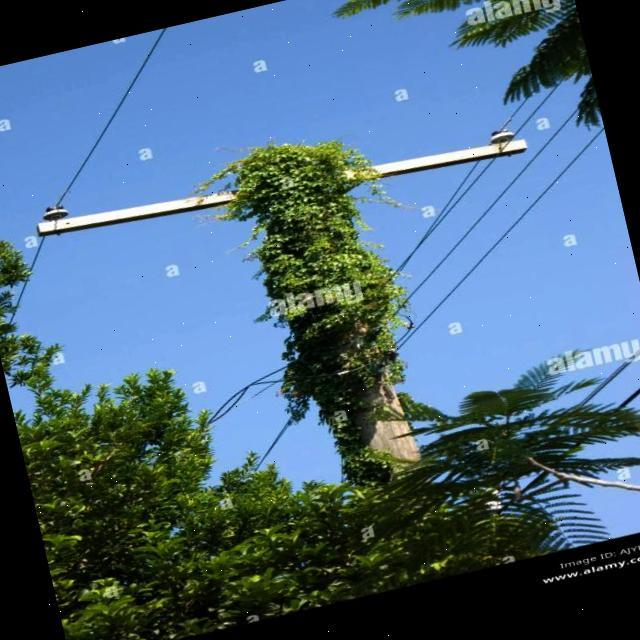critical vegetation: (166, 78, 467, 361)
